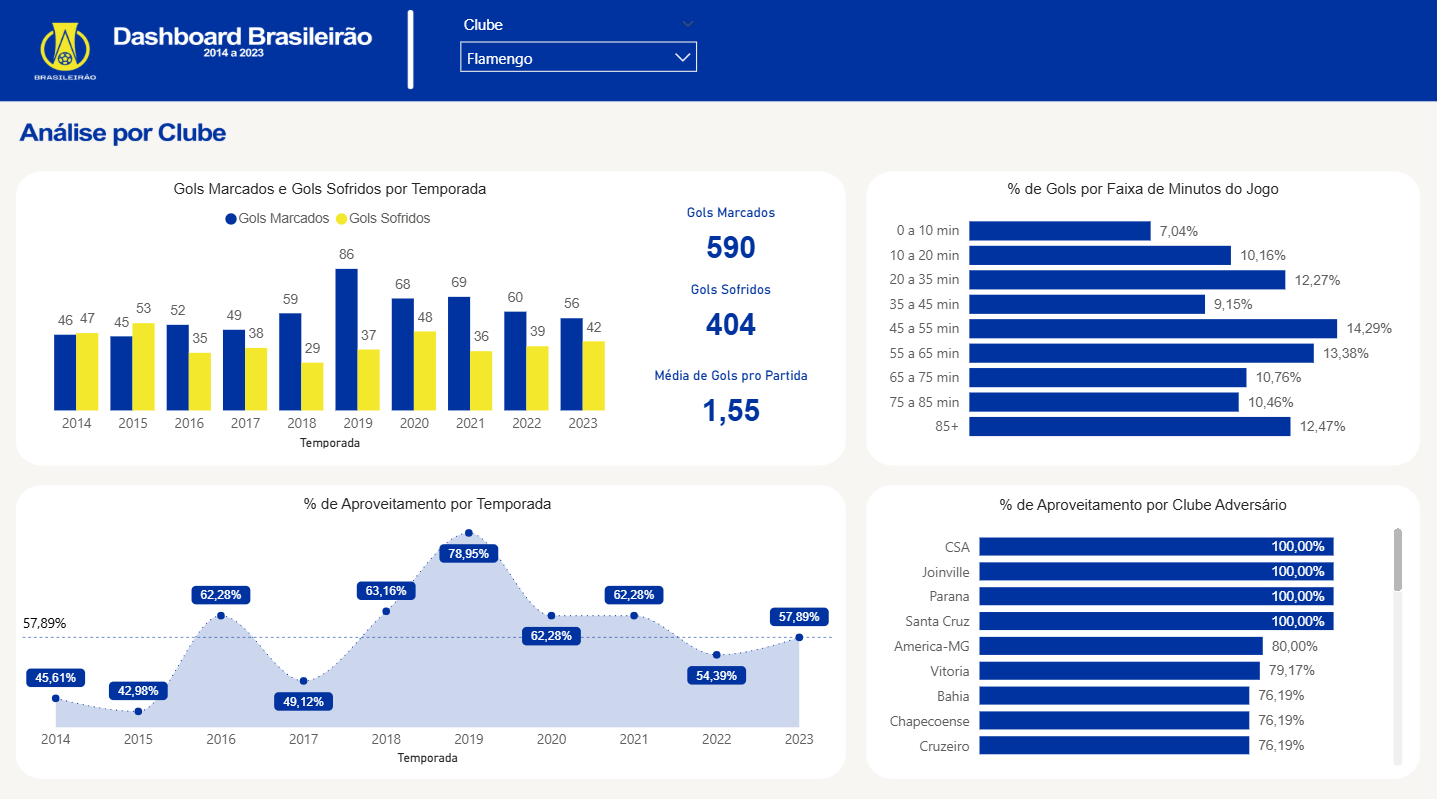

This screenshot's page, from the dashboard's own definition file:
{"tool":"powerbi","page":{"name":"Análise Clube","canvas":[1280,720],"ordinal":0},"visuals":[{"type":"slicer","fields":{"Values":["gols_totais.Clube"]},"box":[397.8,12.2,230,64.4],"z":0},{"type":"clusteredColumnChart","title":"Gols Marcados e Gols Sofridos por Temporada","fields":{"Category":["gols_totais.Temporada"],"Y":["Sum(gols_totais.Gols Feitos)","Sum(gols_totais.Gols Sofridos)"]},"box":[23.3,162.2,538.9,243.3],"z":1000},{"type":"lineChart","title":"% de Aproveitamento por Temporada","fields":{"Category":["gols_totais.Temporada"],"Y":["Medidas.% de Aproveitamento"]},"box":[15,442,728,244],"z":2000},{"type":"barChart","title":"% de Aproveitamento por Clube Adversário","fields":{"Category":["gols_totais.Clube Adversário"],"Y":["Medidas.% de Aproveitamento"]},"box":[778.9,442.2,470,244.4],"z":3000},{"type":"barChart","title":"% de Gols por Faixa de Minutos do Jogo","fields":{"Category":["campeonato-brasileiro-gols.Range Minutos"],"Y":["Medidas.Total de Gols"]},"box":[778.9,162.2,470,241.1],"z":4000},{"type":"card","title":"Gols Marcados","fields":{"Values":["Sum(gols_totais.Gols Feitos)"]},"box":[562,184,172,62],"z":5000},{"type":"card","title":"Gols Sofridos","fields":{"Values":["Sum(gols_totais.Gols Sofridos)"]},"box":[562,253,172,62],"z":6000},{"type":"card","title":"Média de Gols pro Partida","fields":{"Values":["Medidas.Média de Gols por Paritda"]},"box":[562,329,172,62],"z":7000}]}

Visuals, with their boxes in screenshot pixels (x1, y1, x2, y2), scaled from the page's 1280x720 canvas onto the 1437x799 screenshot:
slicer - gols_totais.Clube: 447:14:705:85
"Gols Marcados e Gols Sofridos por Temporada" clusteredColumnChart: 26:180:631:450
"% de Aproveitamento por Temporada" lineChart: 17:490:834:761
"% de Aproveitamento por Clube Adversário" barChart: 874:491:1402:762
"% de Gols por Faixa de Minutos do Jogo" barChart: 874:180:1402:448
"Gols Marcados" card: 631:204:824:273
"Gols Sofridos" card: 631:281:824:350
"Média de Gols pro Partida" card: 631:365:824:434
